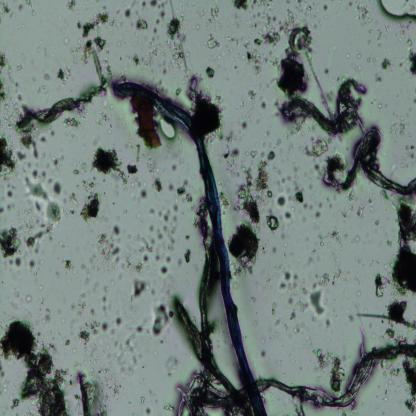Air bubble: (377, 0, 416, 20), (156, 116, 180, 143)
Background material: (107, 77, 271, 416), (0, 318, 72, 416), (171, 369, 251, 416), (186, 74, 224, 142), (222, 219, 264, 277), (75, 361, 109, 416), (163, 8, 190, 75), (233, 162, 260, 226), (129, 94, 158, 150), (274, 56, 310, 97), (356, 304, 416, 328), (390, 244, 416, 299), (93, 147, 128, 184), (95, 221, 121, 269), (278, 0, 315, 32), (22, 221, 58, 250), (21, 174, 47, 214), (247, 46, 280, 76), (75, 9, 110, 36), (80, 179, 102, 221), (253, 12, 280, 46), (110, 342, 138, 374), (219, 144, 246, 176), (256, 162, 274, 207), (152, 302, 174, 338), (132, 44, 164, 68), (0, 225, 22, 259), (288, 26, 314, 54), (398, 204, 416, 242), (289, 284, 308, 320), (399, 356, 416, 393), (0, 137, 16, 176), (328, 354, 344, 392), (86, 342, 104, 375), (100, 368, 121, 396), (308, 286, 326, 318), (151, 8, 166, 44), (378, 359, 401, 381), (305, 136, 329, 157), (354, 0, 373, 26), (232, 0, 273, 12), (174, 179, 192, 206), (70, 292, 88, 319), (19, 136, 38, 160), (80, 256, 95, 286), (46, 196, 64, 220), (342, 288, 360, 312), (64, 190, 80, 217), (0, 103, 16, 130), (96, 111, 114, 134), (124, 252, 142, 275), (314, 347, 332, 370), (130, 278, 146, 303), (279, 271, 297, 293), (170, 203, 178, 252), (375, 273, 390, 299), (357, 315, 366, 358), (400, 143, 416, 167), (302, 201, 324, 218), (206, 6, 221, 30), (24, 261, 44, 279), (332, 254, 342, 288), (97, 294, 114, 314), (311, 272, 332, 288), (383, 190, 399, 211), (329, 228, 344, 250), (306, 247, 322, 267), (164, 356, 180, 376), (282, 122, 302, 138), (291, 394, 305, 416), (276, 174, 291, 193), (87, 318, 101, 338), (245, 86, 258, 107), (77, 323, 90, 344), (225, 128, 240, 146), (72, 160, 87, 178), (64, 116, 83, 130), (141, 236, 152, 260), (206, 32, 221, 49), (395, 330, 410, 347), (147, 156, 159, 177), (291, 186, 305, 204), (0, 47, 10, 72), (218, 190, 231, 209), (56, 67, 72, 82), (391, 122, 406, 138), (56, 366, 68, 386), (404, 396, 416, 416), (266, 214, 280, 231), (35, 305, 49, 322), (132, 17, 148, 31), (0, 76, 8, 103), (238, 114, 252, 129), (408, 51, 416, 77), (341, 204, 355, 218), (60, 258, 72, 274), (125, 314, 135, 333), (0, 0, 11, 17), (292, 165, 300, 188), (396, 22, 406, 40), (367, 195, 377, 213), (383, 384, 393, 402), (225, 48, 237, 63), (181, 247, 192, 263), (152, 177, 163, 193), (148, 0, 167, 9), (382, 260, 399, 270), (15, 150, 28, 163), (38, 82, 50, 96), (324, 89, 336, 103), (128, 175, 140, 189), (380, 58, 394, 70), (318, 230, 329, 245), (51, 180, 62, 195), (384, 326, 395, 341), (400, 195, 415, 206), (26, 0, 35, 18), (14, 82, 22, 102), (398, 56, 411, 68), (206, 320, 217, 334), (272, 98, 280, 117), (233, 12, 243, 27), (127, 163, 139, 175), (87, 308, 99, 320), (306, 340, 315, 356), (402, 0, 415, 11), (371, 71, 384, 82), (114, 315, 124, 329), (206, 66, 216, 80), (227, 36, 238, 48), (356, 206, 366, 219), (126, 332, 136, 345), (50, 344, 60, 357), (68, 0, 77, 14), (162, 208, 171, 222), (241, 36, 250, 50), (270, 301, 278, 316), (312, 163, 322, 175), (277, 196, 287, 208), (272, 262, 282, 274), (29, 167, 39, 179), (9, 396, 18, 409), (244, 150, 258, 158), (197, 7, 207, 18), (101, 320, 111, 331), (163, 402, 174, 412), (352, 62, 362, 73), (25, 404, 34, 416), (326, 194, 333, 209), (348, 188, 356, 201), (376, 29, 382, 46), (284, 211, 294, 221), (265, 271, 272, 285), (259, 96, 266, 110), (406, 40, 414, 52), (55, 159, 63, 171), (307, 311, 315, 323), (350, 234, 360, 243), (349, 400, 358, 410), (268, 151, 277, 161), (110, 16, 118, 27), (136, 143, 140, 165), (6, 190, 14, 201), (169, 179, 175, 193), (119, 35, 126, 47), (161, 264, 168, 276), (157, 232, 166, 241), (148, 206, 157, 215), (173, 88, 182, 97), (232, 64, 240, 74), (293, 324, 301, 334), (148, 224, 156, 234), (135, 326, 145, 334), (354, 275, 362, 285), (318, 372, 326, 382), (273, 135, 280, 146), (140, 188, 147, 199), (178, 156, 184, 168), (348, 410, 360, 416), (98, 408, 107, 416), (172, 161, 178, 173), (165, 256, 174, 264), (377, 100, 383, 112), (2, 382, 8, 394), (332, 308, 338, 320), (268, 391, 274, 403), (345, 270, 350, 284), (102, 284, 112, 291), (366, 98, 376, 105), (139, 394, 146, 404), (48, 128, 55, 138), (260, 151, 266, 162), (251, 319, 259, 327), (238, 100, 245, 109), (17, 3, 24, 12), (323, 67, 330, 76), (322, 3, 329, 12), (386, 238, 393, 247), (347, 314, 354, 323), (146, 326, 152, 336), (234, 280, 240, 290), (0, 364, 4, 378), (340, 408, 347, 416), (68, 379, 75, 387), (125, 8, 130, 19), (275, 318, 281, 327), (15, 259, 21, 268), (23, 297, 32, 303), (250, 295, 256, 304), (327, 319, 332, 329), (287, 352, 292, 362), (263, 129, 270, 136), (150, 289, 156, 297), (163, 225, 169, 233), (156, 254, 162, 262), (150, 238, 156, 246), (62, 340, 70, 346), (413, 89, 416, 104), (16, 62, 21, 71), (281, 232, 286, 241), (356, 52, 362, 59), (183, 234, 190, 240), (0, 209, 6, 216), (384, 24, 390, 31), (194, 23, 200, 30), (270, 245, 276, 252), (260, 337, 266, 344), (283, 323, 289, 330), (302, 236, 308, 243), (162, 68, 167, 76), (63, 37, 68, 45), (46, 72, 50, 82), (283, 241, 288, 249), (371, 332, 376, 340), (36, 329, 41, 337), (146, 407, 151, 415), (372, 56, 377, 64), (40, 135, 44, 144), (158, 208, 162, 217), (298, 146, 304, 152), (288, 144, 294, 150), (374, 220, 379, 227), (72, 346, 76, 354), (262, 350, 266, 358), (141, 1, 146, 7), (217, 54, 222, 60), (393, 218, 399, 223), (366, 56, 371, 62), (348, 0, 353, 6), (365, 39, 370, 45), (290, 206, 296, 211), (284, 251, 288, 258), (38, 47, 42, 54), (358, 256, 362, 263), (127, 398, 131, 405), (122, 77, 127, 82), (131, 2, 135, 8), (302, 216, 306, 222), (242, 54, 245, 62), (122, 209, 128, 213), (274, 332, 278, 338), (34, 316, 37, 323), (263, 142, 267, 147), (139, 220, 143, 225), (404, 113, 408, 118), (388, 380, 393, 384), (368, 29, 372, 34), (408, 107, 412, 112), (400, 116, 404, 121), (128, 56, 132, 61), (131, 411, 135, 416), (374, 21, 378, 25), (282, 373, 286, 377), (380, 320, 384, 324), (377, 385, 380, 390), (337, 77, 340, 82), (358, 292, 361, 297), (347, 54, 350, 59), (48, 162, 50, 169), (362, 402, 364, 408), (370, 263, 373, 267), (394, 100, 397, 104), (72, 133, 74, 138), (161, 340, 163, 344), (397, 94, 399, 98)
Cellulose filter fibre: (257, 342, 416, 407), (327, 127, 416, 196), (175, 299, 238, 392), (16, 83, 108, 136), (280, 78, 366, 132), (192, 197, 218, 340)
Cotton: (73, 40, 114, 84)
